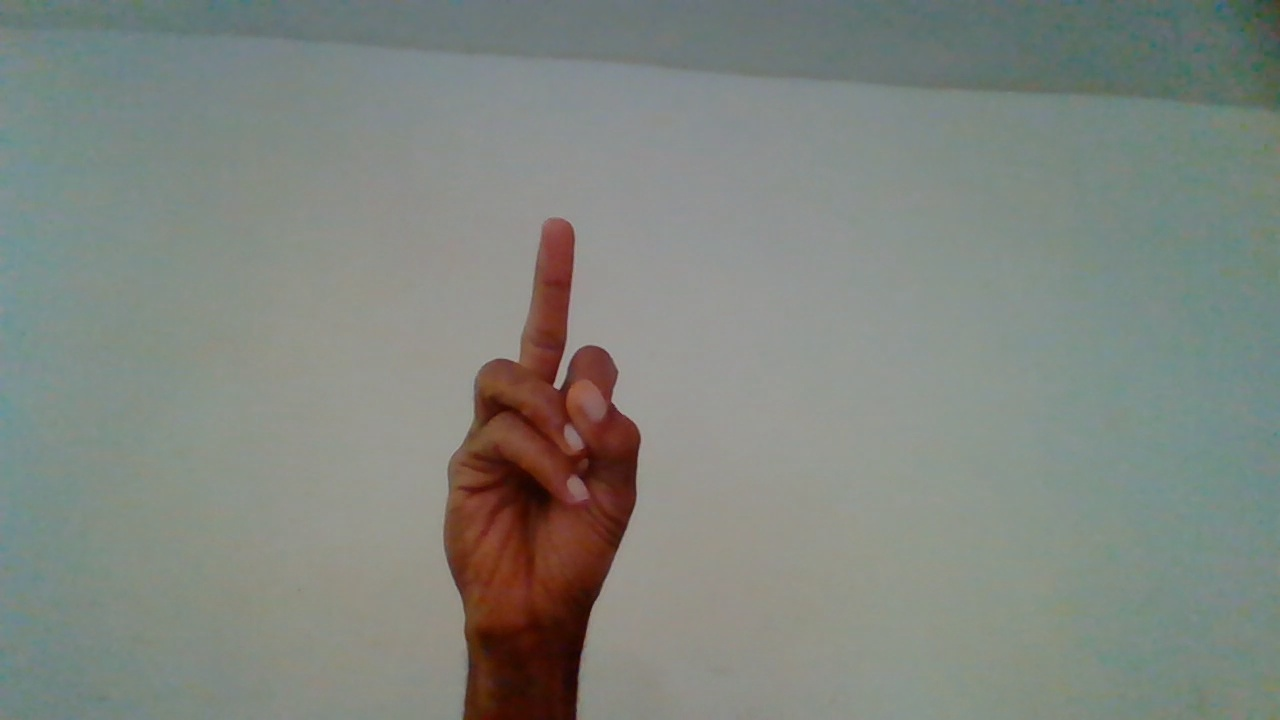he: (445, 222, 651, 710)
